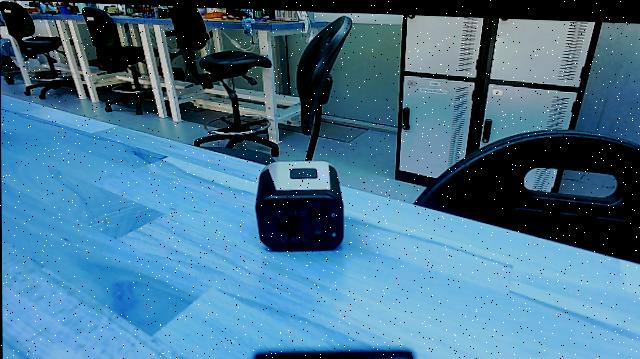adapter: (253, 153, 349, 257)
